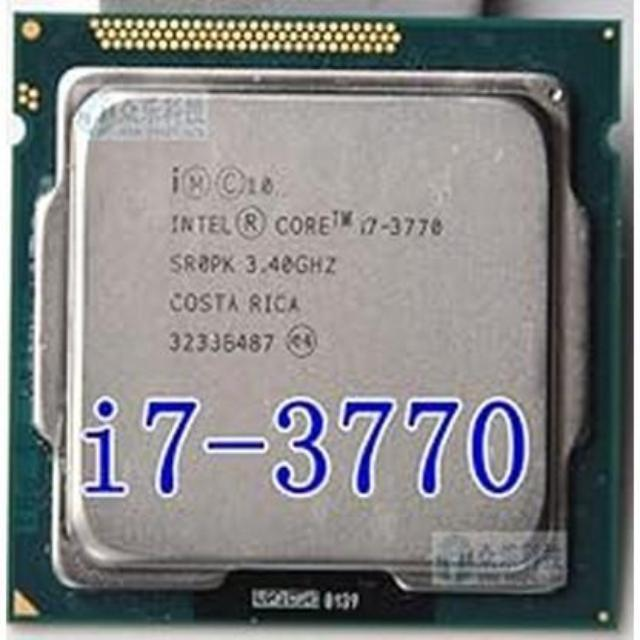CPU: (15, 19, 630, 634)
